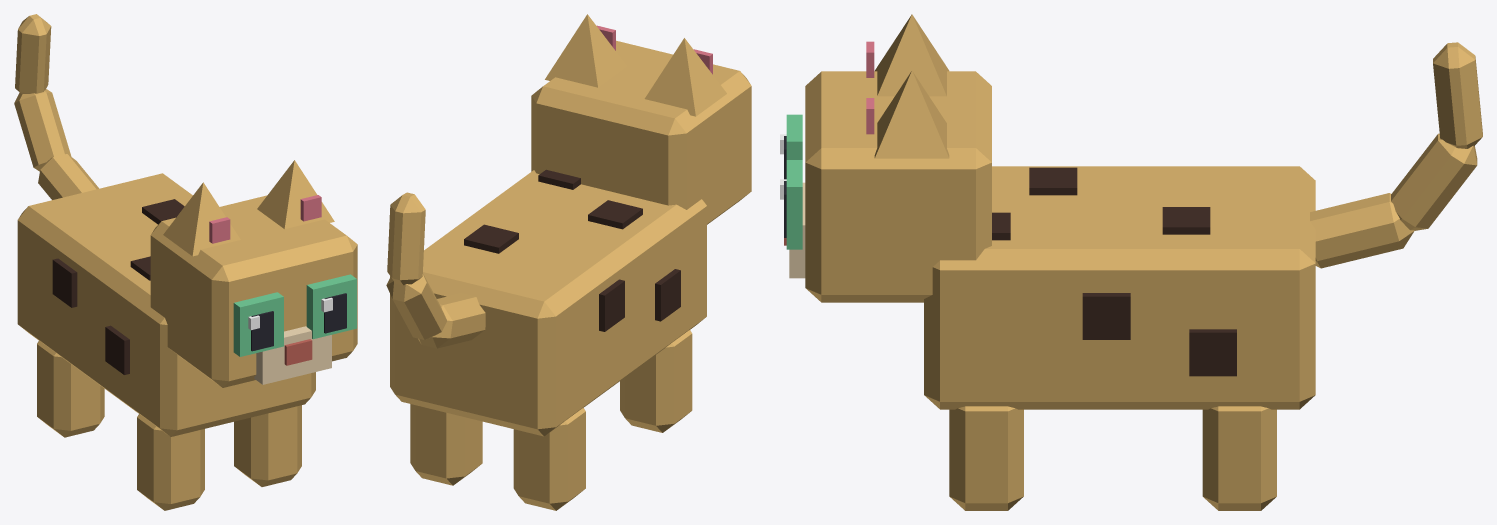
Rendered from CatCafe_Cat_Bengal.glb.
3 views of the same model, side by side, from view 1: azimuth 30°, elevation 25°; view 2: azimuth 150°, elevation 25°; view 3: azimuth 270°, elevation 25° (orthographic). The views are drawn at different scales.
Parts seen in each view (by area): view 1: CatCafe_Cat_Bengal_Body, CatCafe_Cat_Bengal_Head, CatCafe_Cat_Bengal_Tail; view 2: CatCafe_Cat_Bengal_Body, CatCafe_Cat_Bengal_Head, CatCafe_Cat_Bengal_Tail; view 3: CatCafe_Cat_Bengal_Body, CatCafe_Cat_Bengal_Head, CatCafe_Cat_Bengal_Tail.
Boxes of the visible parts, box(x1,y1,x2,y2) form: CatCafe_Cat_Bengal_Body: box(17, 173, 315, 510); CatCafe_Cat_Bengal_Head: box(150, 160, 357, 387); CatCafe_Cat_Bengal_Tail: box(14, 14, 98, 199); CatCafe_Cat_Bengal_Body: box(390, 169, 706, 510); CatCafe_Cat_Bengal_Head: box(531, 14, 751, 224); CatCafe_Cat_Bengal_Tail: box(386, 192, 485, 348); CatCafe_Cat_Bengal_Body: box(924, 166, 1315, 510); CatCafe_Cat_Bengal_Head: box(780, 14, 991, 302); CatCafe_Cat_Bengal_Tail: box(1310, 42, 1482, 268).
Bounding box in the file's own units: 0.915 × 1.78 × 2.64.
Materials: 1 (1 with a texture image).
